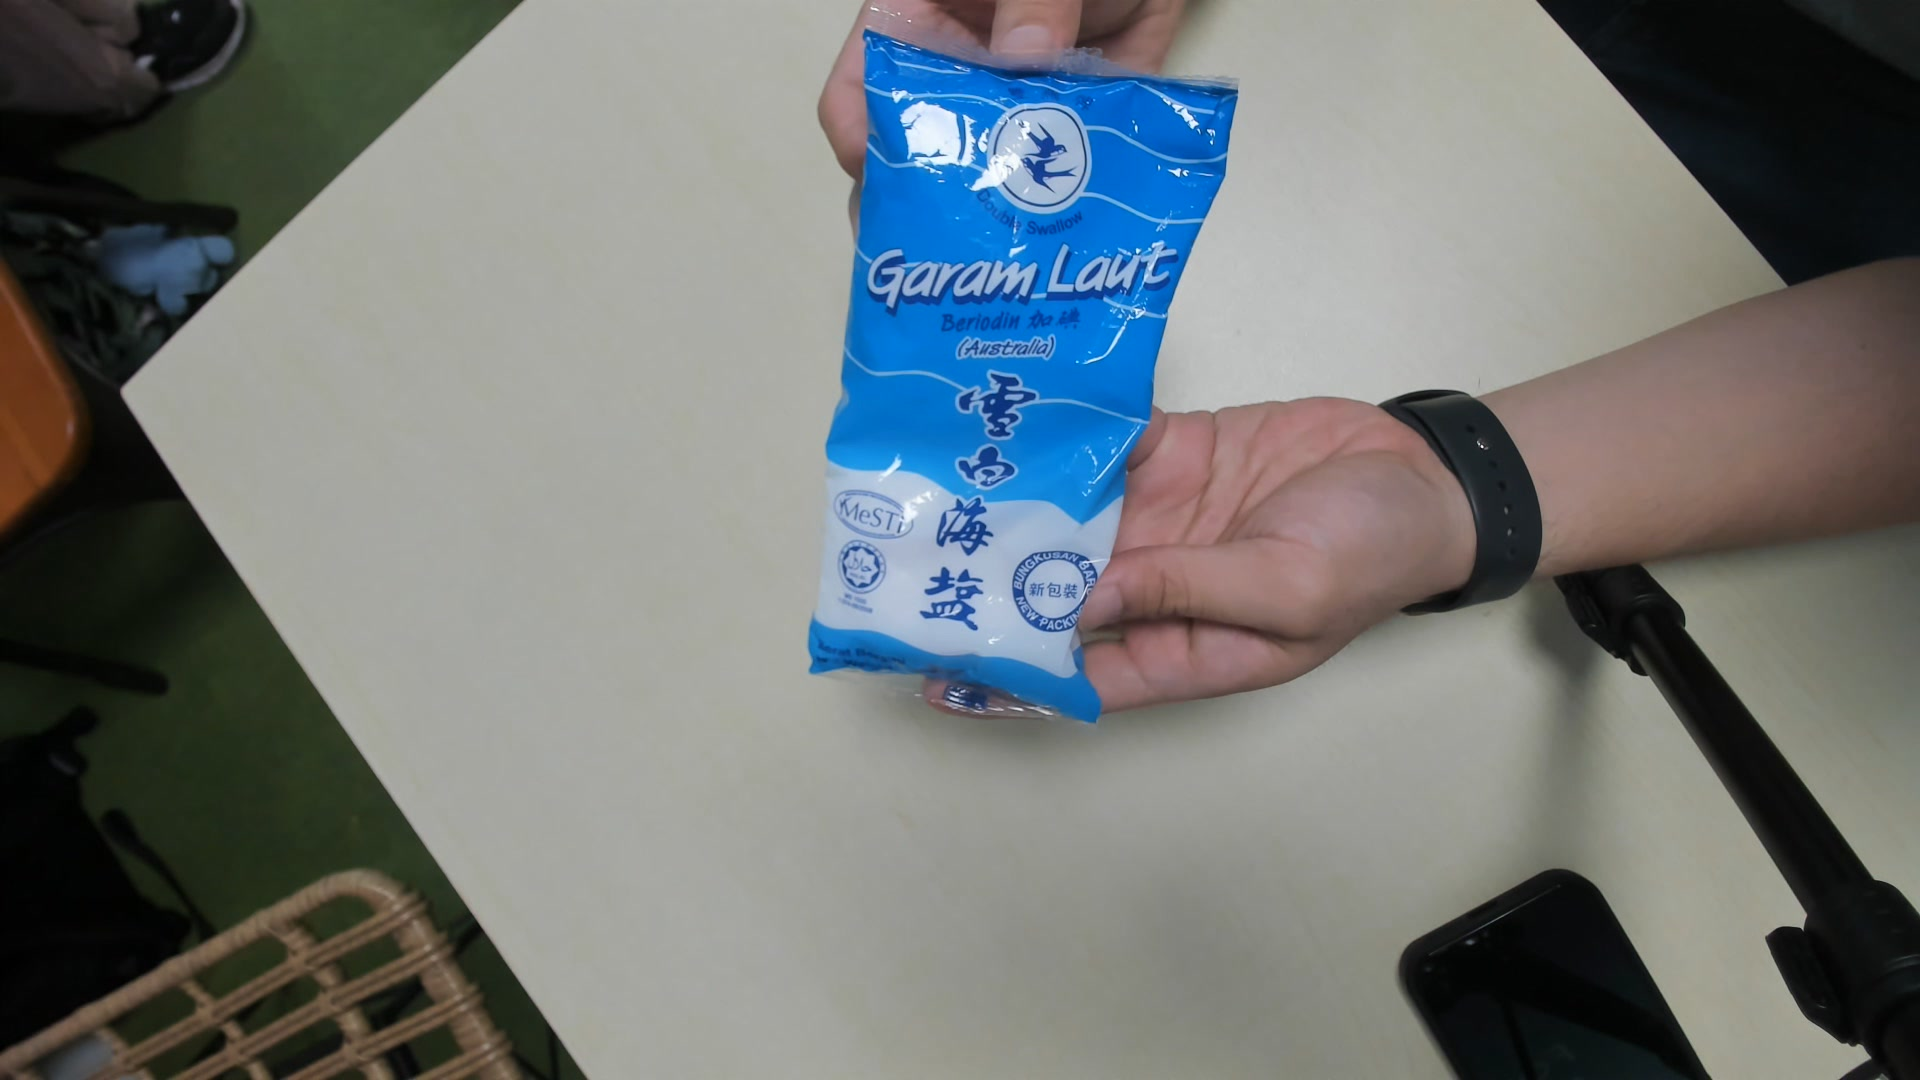Salt_300-399g_NonHalal_NonHealthy: (811, 24, 1233, 723)
